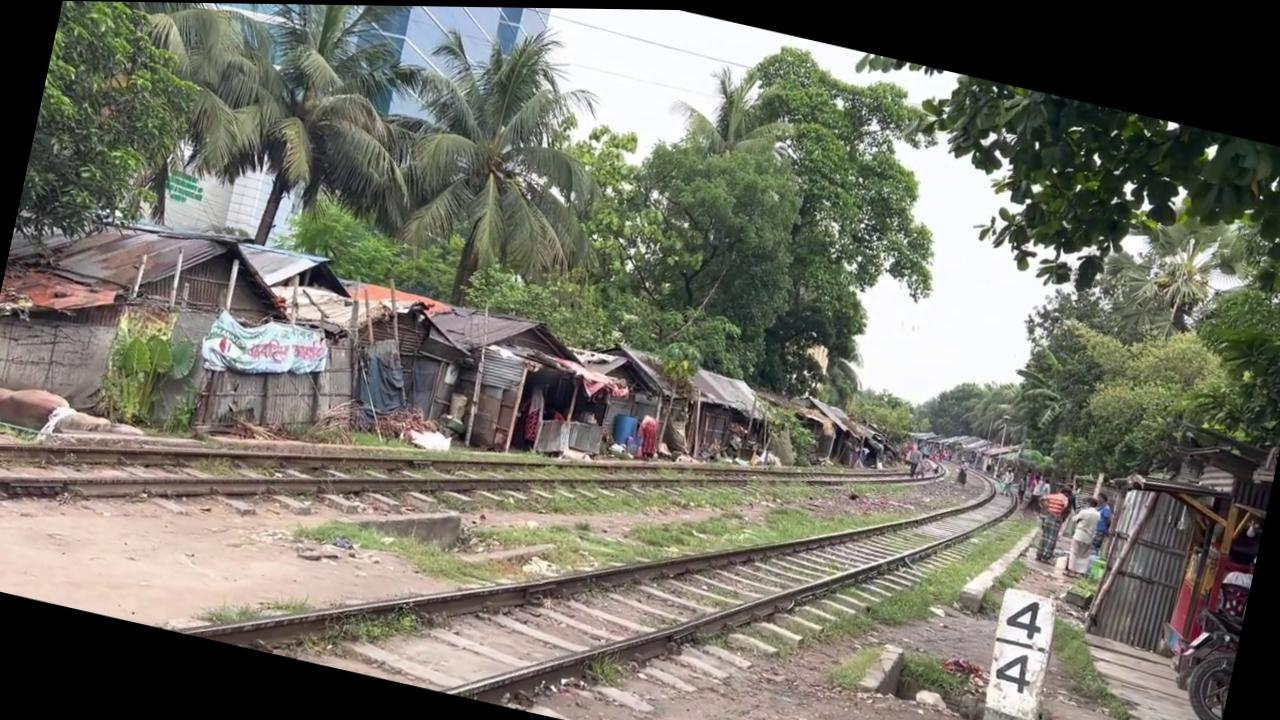Curb: (1163, 557, 1252, 720)
Motorcycle: (168, 290, 1025, 720)
Pothole: (970, 581, 1063, 720)
Railroad-crossing: (356, 4, 643, 332), (170, 2, 452, 274)
